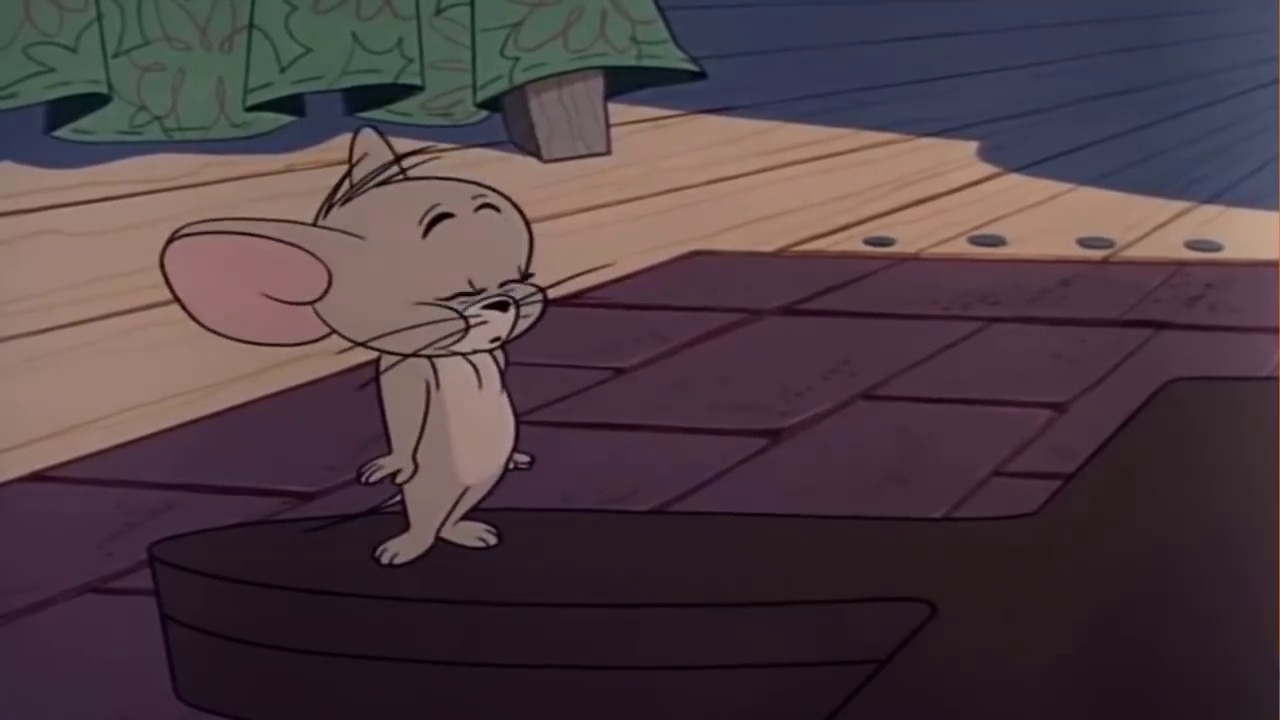face: (407, 195, 538, 356)
